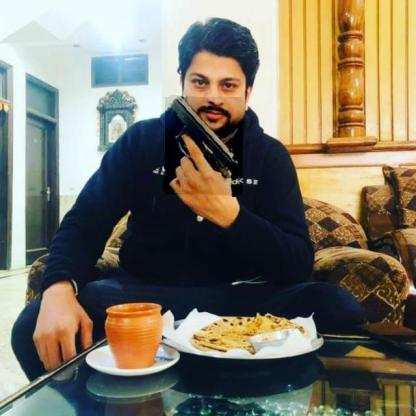handgun: (164, 96, 244, 196)
